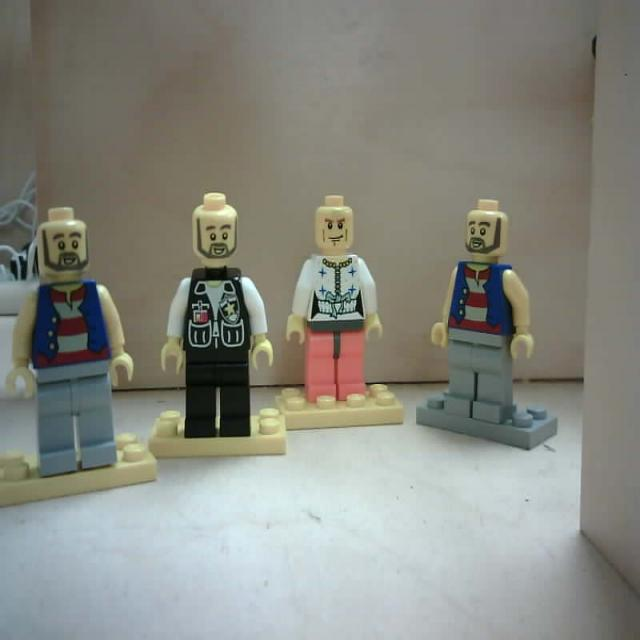Lego-People: (7, 206, 137, 484), (160, 192, 274, 447), (430, 198, 534, 436), (282, 192, 384, 417)
